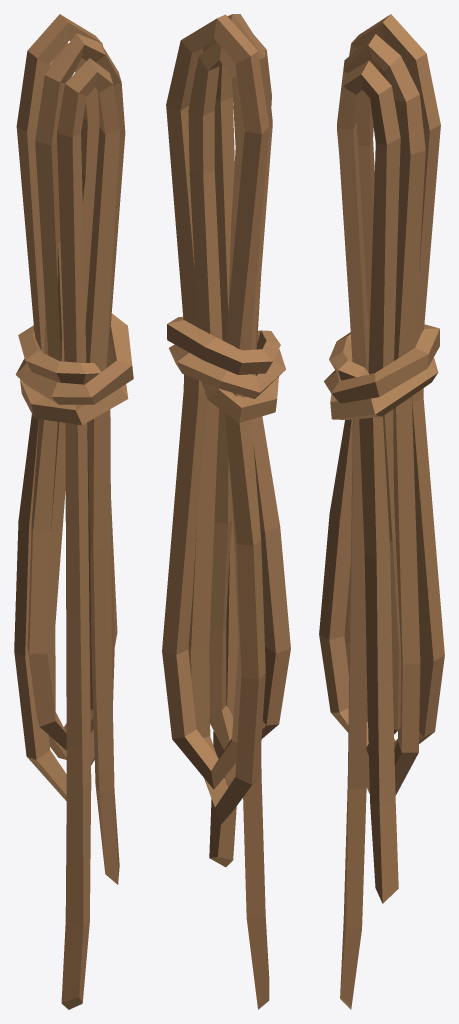
The model's file is prop_rope_hang_03.fbx.
The picture shows the model from 3 angles, left to right: view 1: azimuth 30°, elevation 25°; view 2: azimuth 150°, elevation 25°; view 3: azimuth 330°, elevation 25°; orthographic projection. The views are drawn at different scales.
Visible parts, largest first — view 1: prop_rope_hang_03; view 2: prop_rope_hang_03; view 3: prop_rope_hang_03.
Boxes of the visible parts, x1,y1,x2,y2 form: prop_rope_hang_03: (14, 14, 133, 1009); prop_rope_hang_03: (162, 14, 290, 1009); prop_rope_hang_03: (319, 14, 444, 1009).
Bounding box in the file's own units: 13.75 × 122 × 13.18.
1 material, 1 textured.
